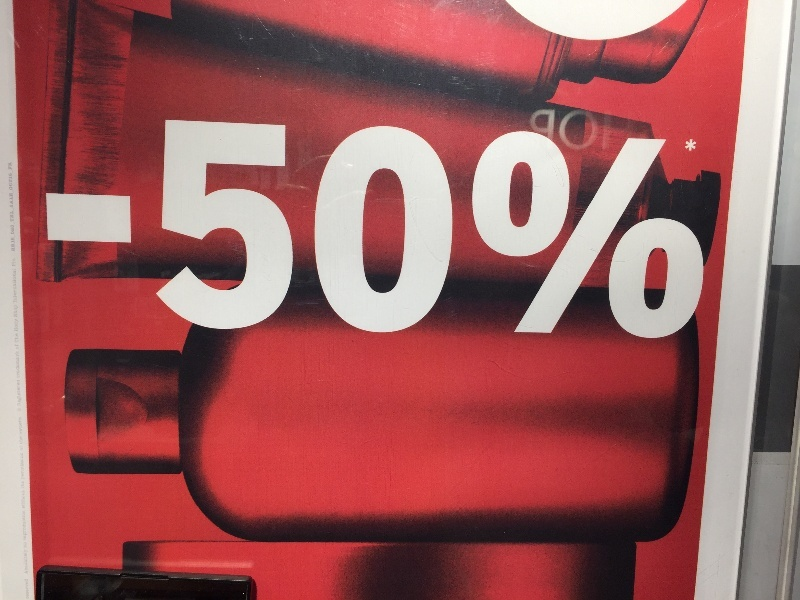text: (49, 118, 64, 342), (65, 118, 80, 342), (81, 118, 96, 342), (97, 118, 112, 342), (113, 118, 128, 342), (129, 118, 144, 342), (145, 118, 160, 342), (161, 118, 176, 342), (177, 118, 192, 342), (193, 118, 208, 342), (209, 118, 224, 342), (225, 118, 240, 342), (241, 118, 256, 342), (257, 118, 272, 342), (273, 118, 288, 342), (289, 118, 304, 342), (305, 118, 320, 342), (321, 118, 336, 342), (337, 118, 352, 342), (353, 118, 368, 342), (369, 118, 384, 342), (385, 118, 400, 342), (401, 118, 416, 342), (417, 118, 432, 342), (433, 118, 448, 342), (449, 118, 464, 342), (465, 118, 480, 342), (481, 118, 496, 342), (497, 118, 512, 342), (513, 118, 528, 342), (529, 118, 544, 342), (545, 118, 560, 342), (561, 118, 576, 342), (577, 118, 592, 342), (593, 118, 608, 342), (609, 118, 624, 342), (625, 118, 640, 342), (641, 118, 656, 342), (657, 118, 672, 342), (673, 118, 688, 342), (689, 118, 704, 342), (529, 106, 544, 154), (545, 106, 560, 154), (561, 106, 576, 154), (577, 106, 592, 154), (593, 106, 608, 154), (609, 106, 624, 154), (705, 118, 708, 342), (625, 106, 632, 154), (47, 118, 48, 342)
